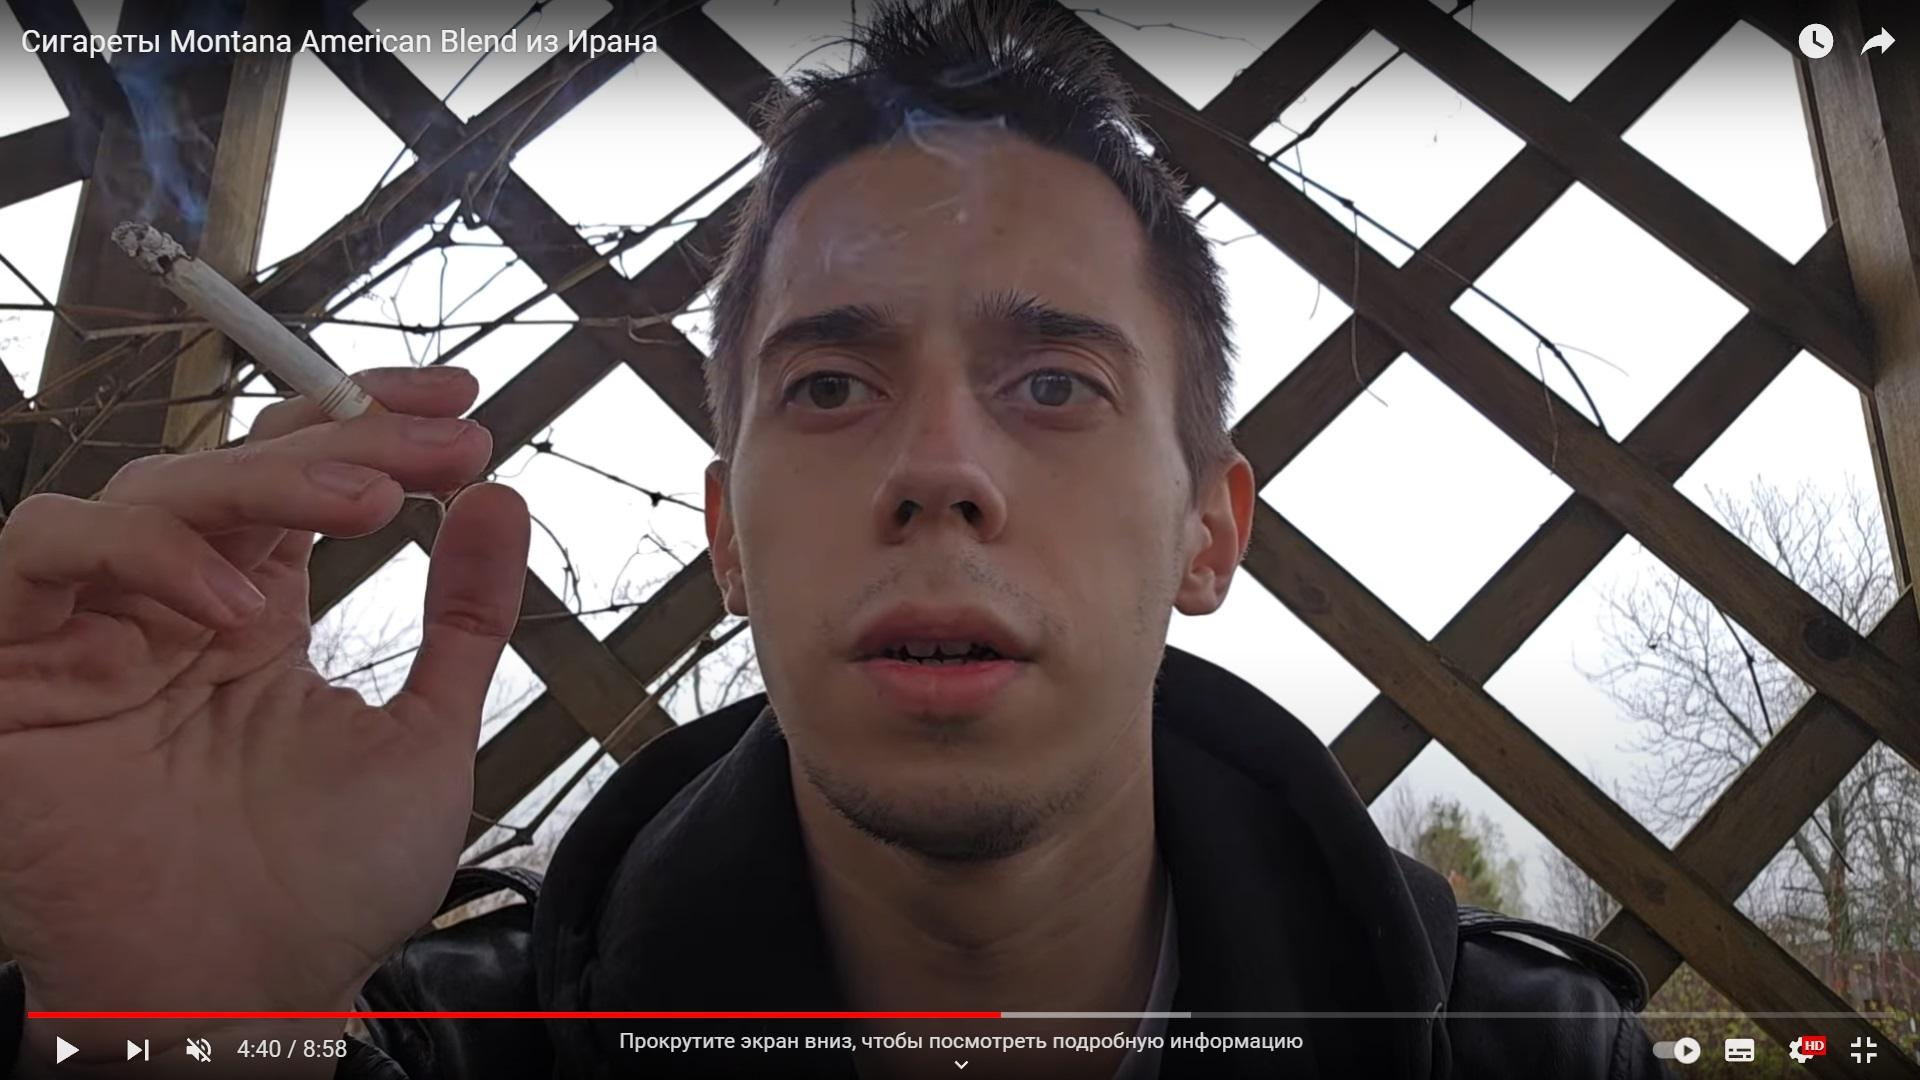cigarette: (112, 219, 471, 502)
